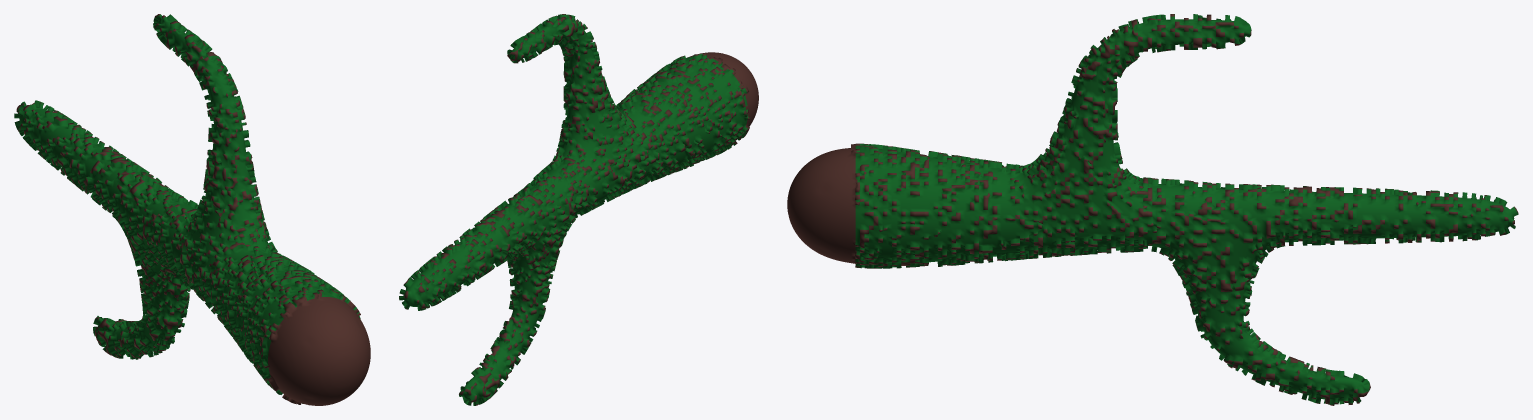
The model's file is Catus.fbx.
3 views of the same model, side by side, from view 1: azimuth 30°, elevation 25°; view 2: azimuth 150°, elevation 25°; view 3: azimuth 270°, elevation 25° (orthographic). The views are drawn at different scales.
Visible parts, largest first — view 1: Quad Sphere; view 2: Quad Sphere; view 3: Quad Sphere.
Part boxes in pixels (box(x1,y1,x2,y2)): Quad Sphere: box(14, 14, 370, 405); Quad Sphere: box(399, 14, 758, 405); Quad Sphere: box(787, 14, 1518, 405).
Bounding box in the file's own units: 84.63 × 291 × 492.
